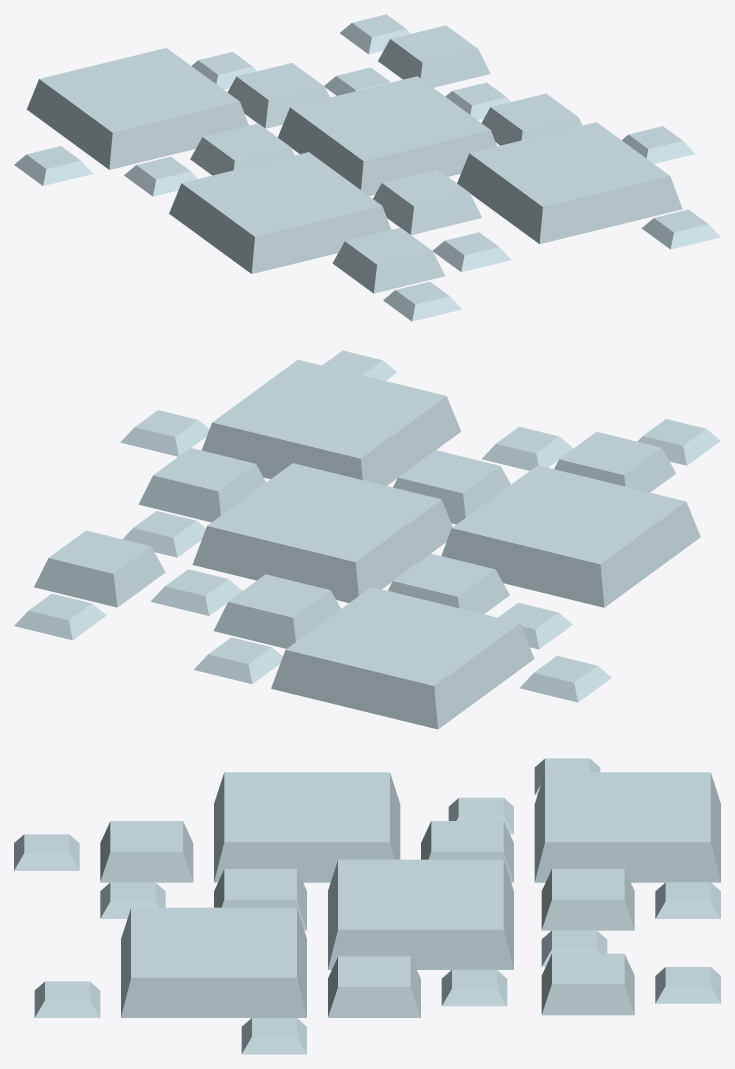
File: road.glb
The picture shows the model from 3 angles, top to bottom: view 1: azimuth 30°, elevation 25°; view 2: azimuth 150°, elevation 25°; view 3: azimuth 270°, elevation 25°; orthographic projection. The views are drawn at different scales.
Parts seen in each view (by area): view 1: road; view 2: road; view 3: road.
Boxes of the visible parts, box(x1,y1,x2,y2) form: road: box(14, 14, 720, 321); road: box(14, 350, 720, 729); road: box(14, 758, 720, 1054).
Size of the model in its own units: 0.7407 by 0.0433 by 0.7708.
